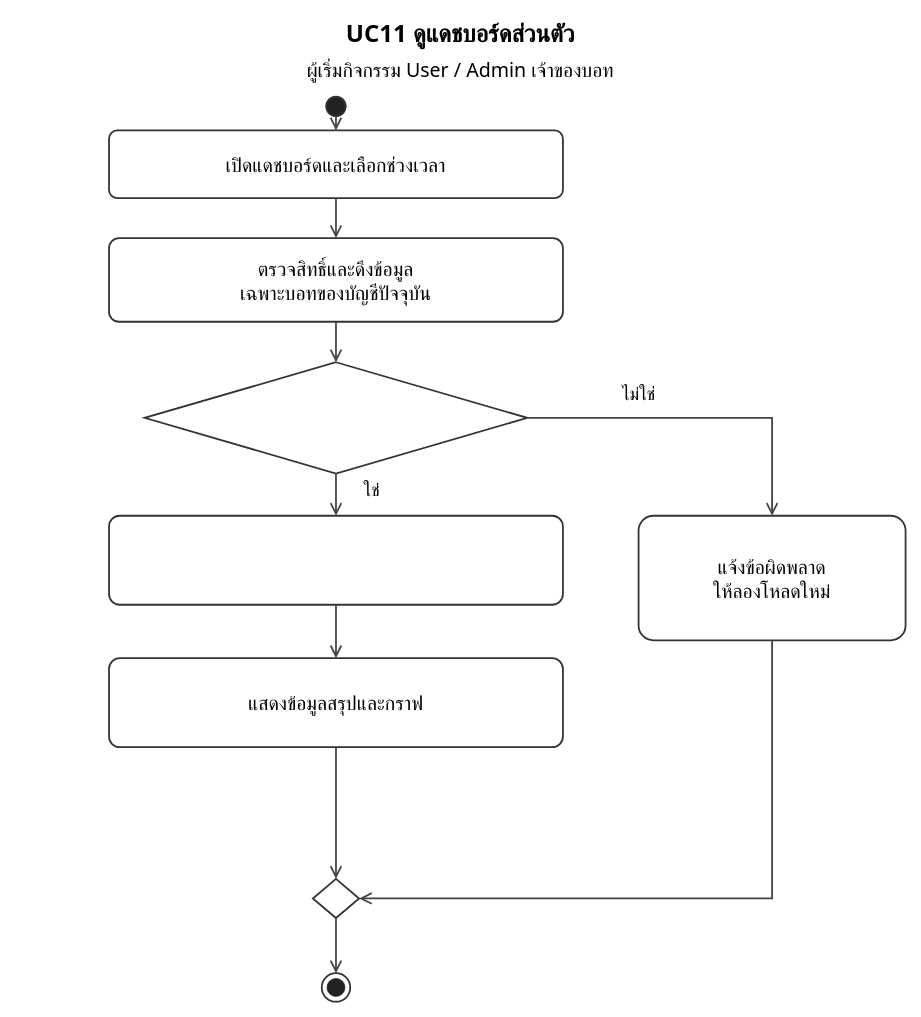
The diagram is 921 pixels wide and 1017 high, and some of its shapes have lost their labels. Here are the shapes that lost their labels. From the top down, the box of each, then its label:
(143, 361, 528, 474): โหลดข้อมูลสำเร็จ
(108, 514, 563, 605): คำนวณจำนวนและสัดส่วนตามหน่วยนับ ไม่มีข้อมูลให้แสดงศูนย์หรือสถานะว่าง
